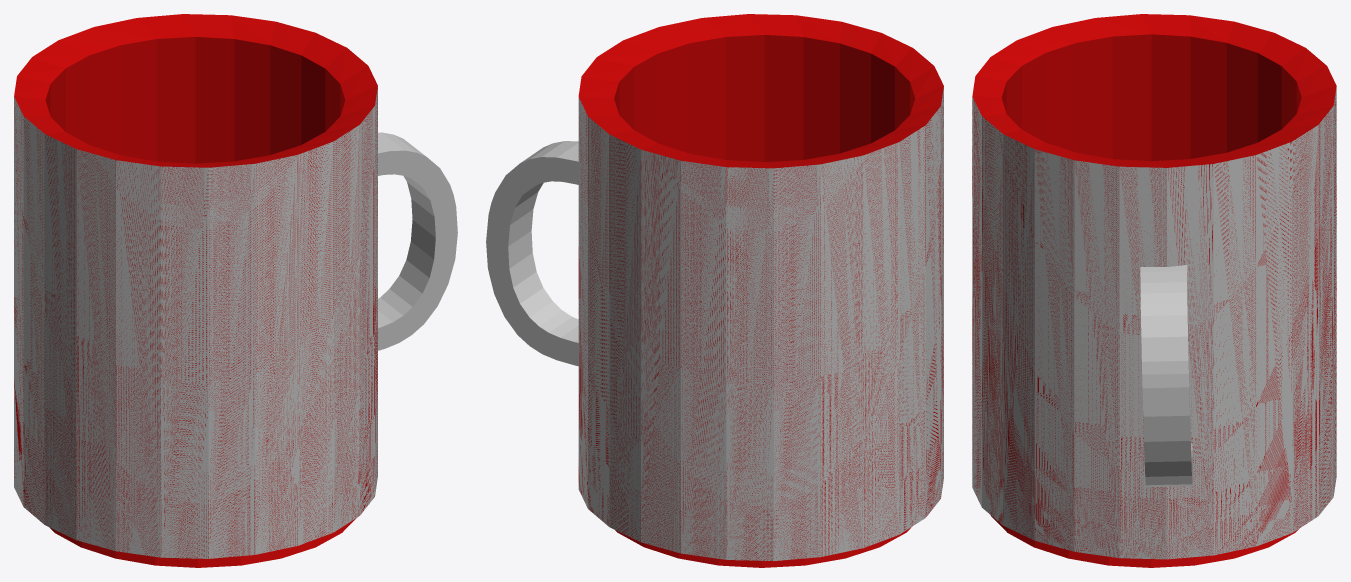
3 renders of one model, left to right at view 1: azimuth 30°, elevation 25°; view 2: azimuth 150°, elevation 25°; view 3: azimuth 270°, elevation 25°, orthographic.
Parts seen in each view (by area): view 1: mesh4_mesh4-geometry, mesh1.001_mesh1-geometry; view 2: mesh4_mesh4-geometry, mesh1.001_mesh1-geometry; view 3: mesh4_mesh4-geometry, mesh1.001_mesh1-geometry.
Boxes of the visible parts, x1,y1,x2,y2 form: mesh4_mesh4-geometry: (14,14,377,567); mesh1.001_mesh1-geometry: (378,132,457,350); mesh4_mesh4-geometry: (578,14,943,567); mesh1.001_mesh1-geometry: (486,141,578,366); mesh4_mesh4-geometry: (972,14,1336,567); mesh1.001_mesh1-geometry: (1140,265,1192,487).
Bounding box in the file's own units: 0.6378 × 0.5979 × 0.4856.
